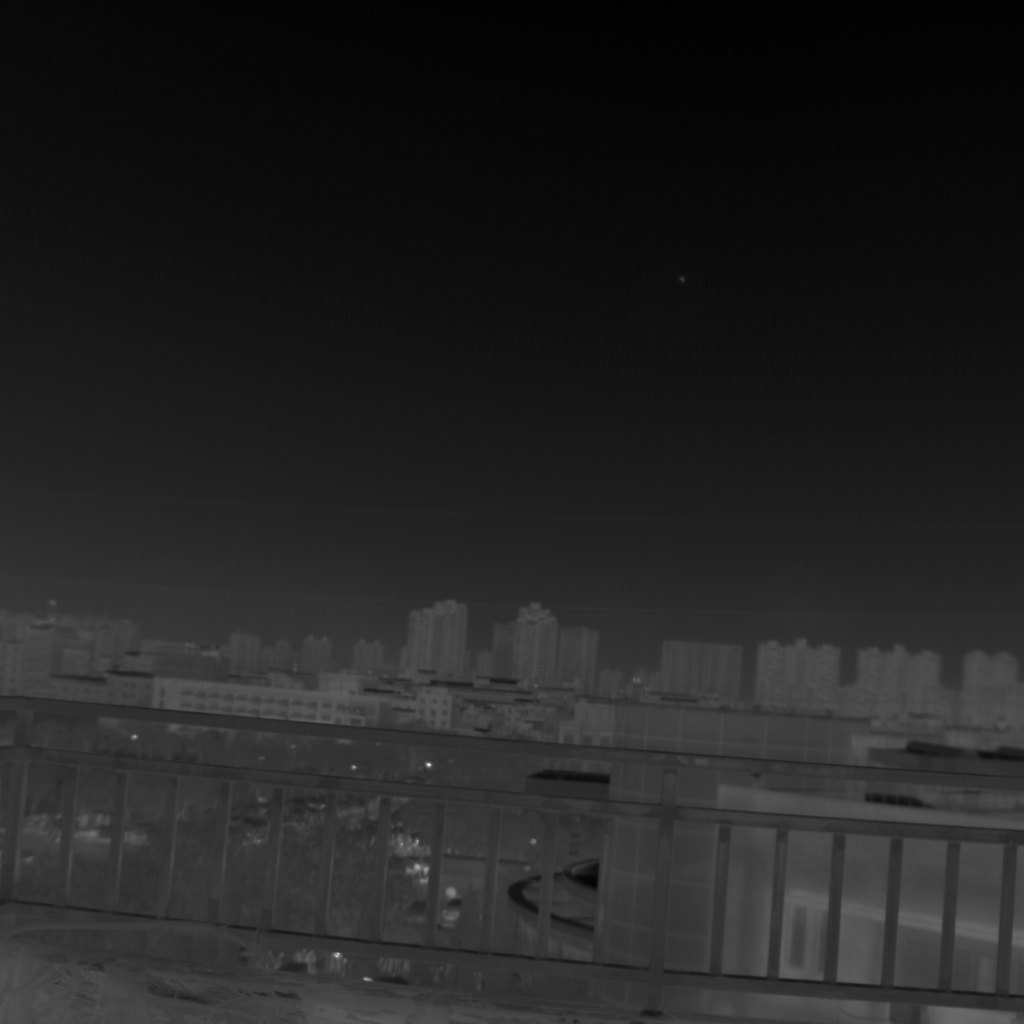Target: (679, 277, 685, 282)
